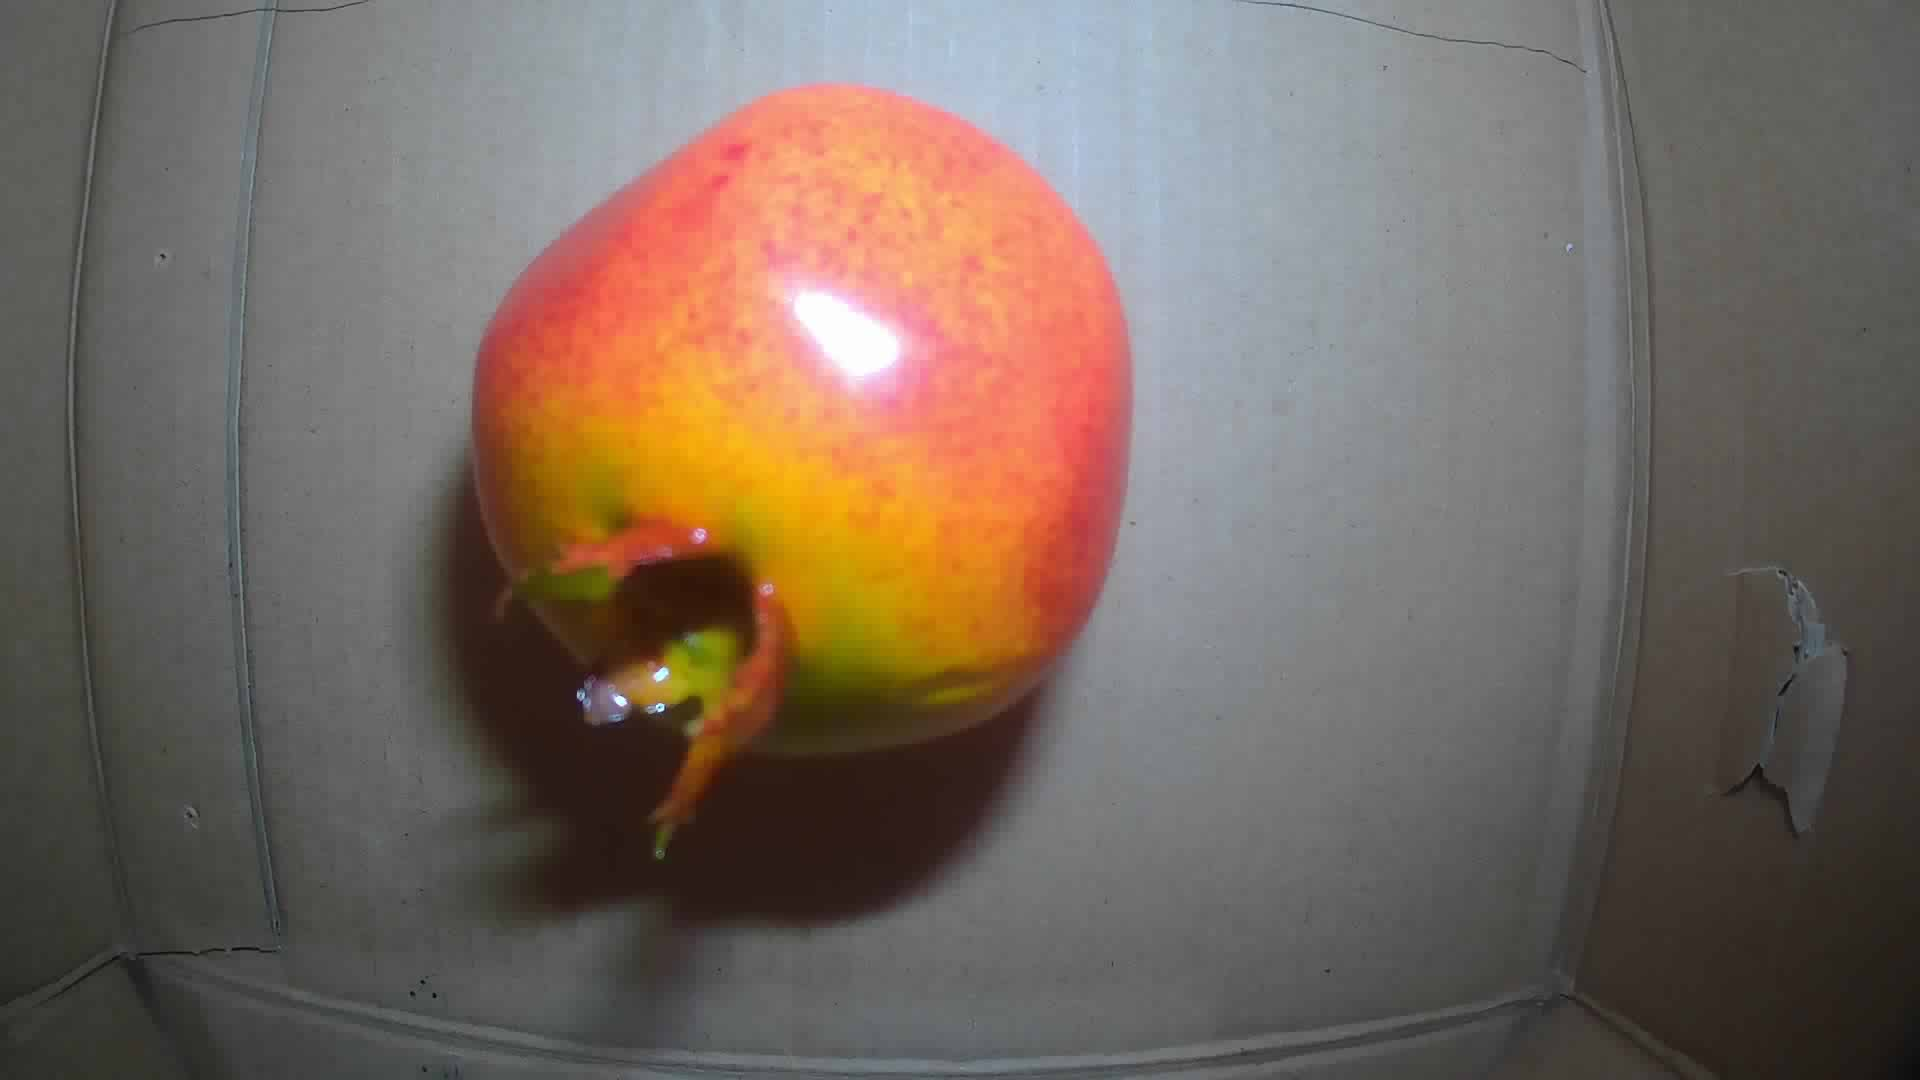pomegranate: (468, 79, 1135, 851)
